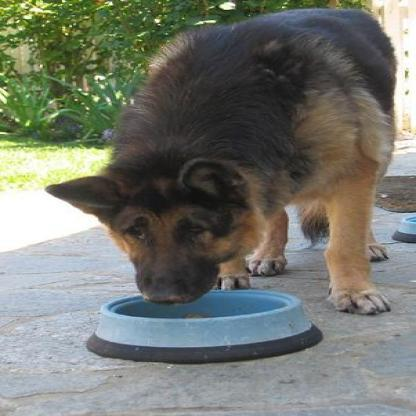dog: (42, 12, 385, 319)
